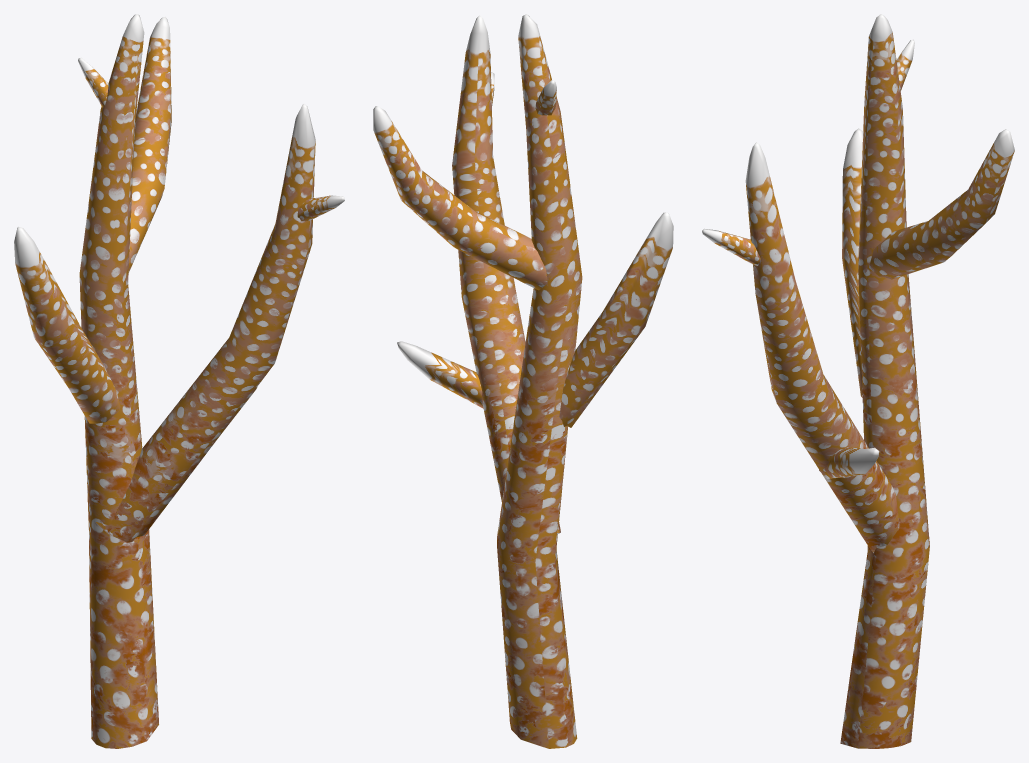
Rendered from StaghornCoral00a.fbx.
3 views of the same model, side by side, from view 1: azimuth 30°, elevation 25°; view 2: azimuth 150°, elevation 25°; view 3: azimuth 270°, elevation 25° (orthographic). The views are drawn at different scales.
Parts seen in each view (by area): view 1: Staghorn00a; view 2: Staghorn00a; view 3: Staghorn00a.
Boxes of the visible parts, left/top/right/bottom form: Staghorn00a: left=14, top=14, right=344, bottom=748; Staghorn00a: left=373, top=14, right=673, bottom=748; Staghorn00a: left=702, top=14, right=1014, bottom=748.
Bounding box in the file's own units: 0.3244 × 0.8453 × 0.3233.
